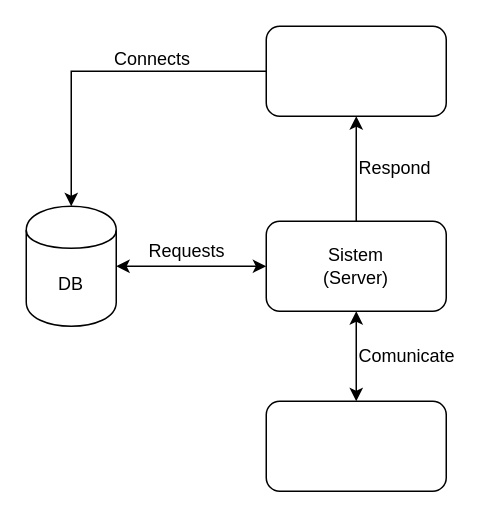
The diagram is 503 pixels wide and 518 high, and some of its shapes have lost their labels. Here are the shapes that lost their labels. From the top down, the box of each, then its label:
(265, 25, 446, 116): User Interface (Client)
(265, 400, 446, 491): Personnel Interface
